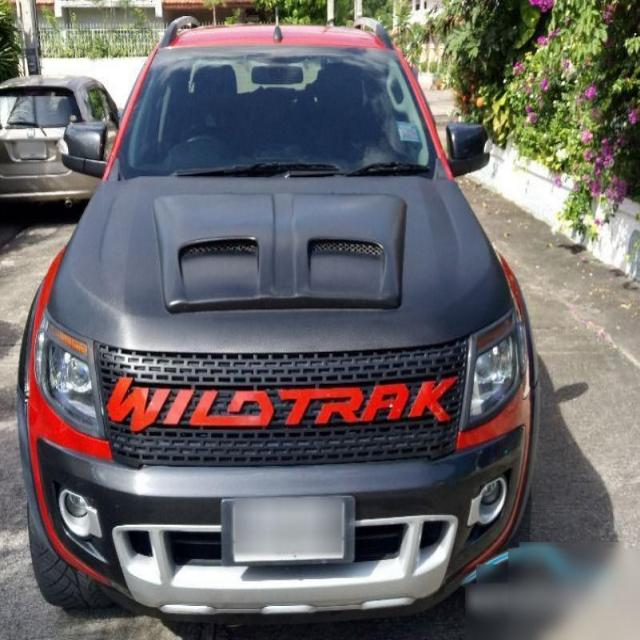front_bumper: (13, 327, 539, 623)
front_glass: (110, 44, 450, 182)
front_left_light: (473, 305, 519, 417)
front_right_light: (34, 307, 107, 437)
hood: (48, 173, 516, 356)
left_mirror: (443, 121, 494, 174)
right_mirror: (60, 121, 112, 178)
